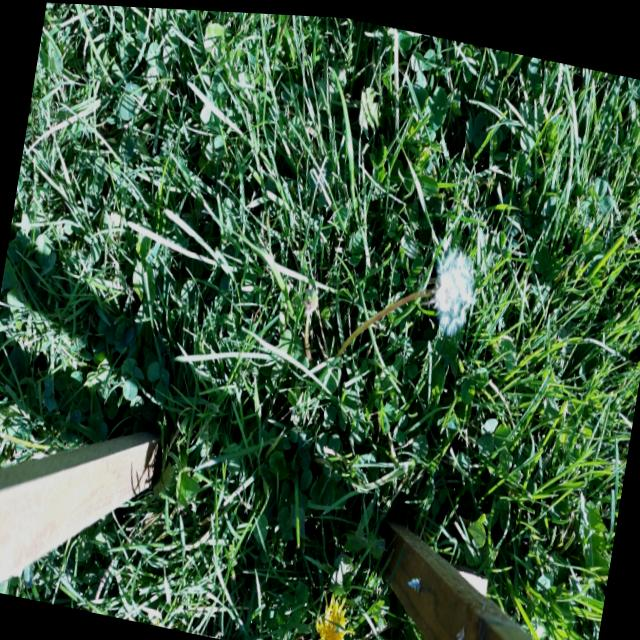base: (327, 331, 353, 370), (296, 333, 321, 372)
